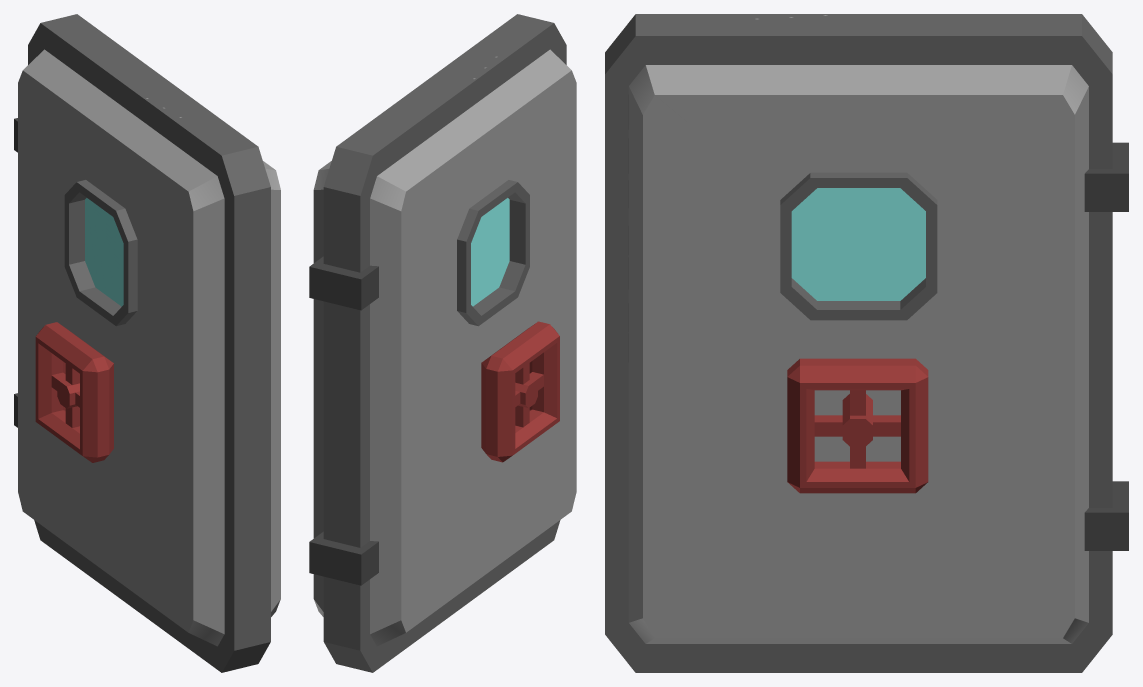
File: door.fbx
3 renders of one model, left to right at view 1: azimuth 30°, elevation 25°; view 2: azimuth 150°, elevation 25°; view 3: azimuth 270°, elevation 25°, orthographic. The views are drawn at different scales.
Parts seen in each view (by area): view 1: d_body, d_manopola; view 2: d_body, d_manopola; view 3: d_body, d_manopola.
Part boxes in pixels (left/top/right/bottom): d_body: left=14, top=14, right=280, bottom=672; d_manopola: left=35, top=322, right=113, bottom=462; d_body: left=309, top=14, right=576, bottom=672; d_manopola: left=481, top=321, right=559, bottom=462; d_body: left=605, top=14, right=1128, bottom=672; d_manopola: left=787, top=358, right=928, bottom=493.
Bounding box in the file's own units: 329 × 896 × 668.
2 materials, 2 textured.
